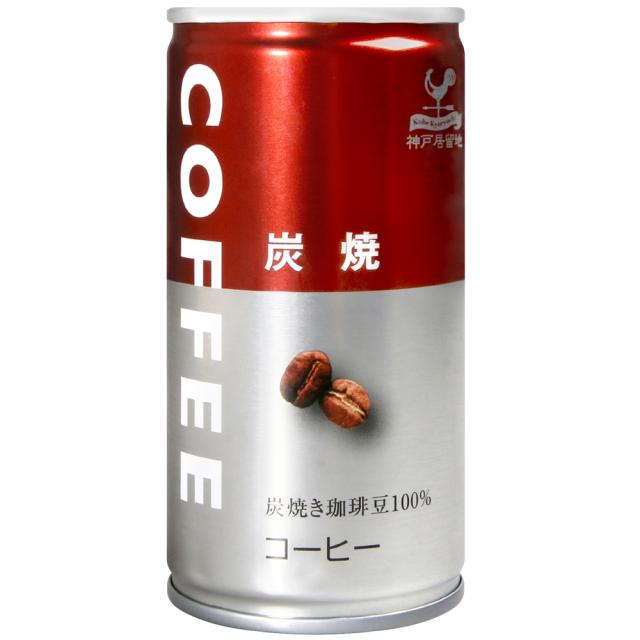Can: (152, 0, 476, 640)
